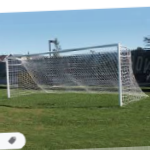goals: (4, 41, 147, 110)
